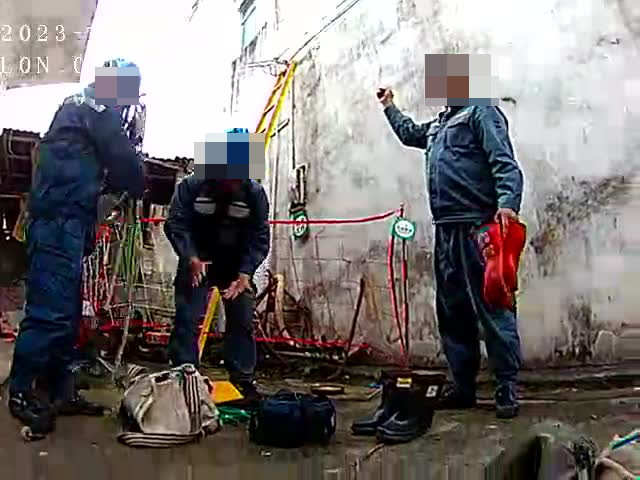downsuit: (433, 221, 527, 401), (8, 227, 94, 403), (172, 260, 258, 373)
halt: (214, 127, 260, 177), (425, 57, 471, 105), (96, 60, 143, 104)
hand: (220, 271, 255, 302), (189, 256, 211, 289), (377, 83, 395, 106)
person: (373, 54, 532, 422), (6, 56, 150, 424), (165, 126, 274, 381)
upsuit: (386, 98, 522, 219), (32, 90, 146, 212), (171, 173, 266, 268)
worksign: (292, 210, 310, 241)
